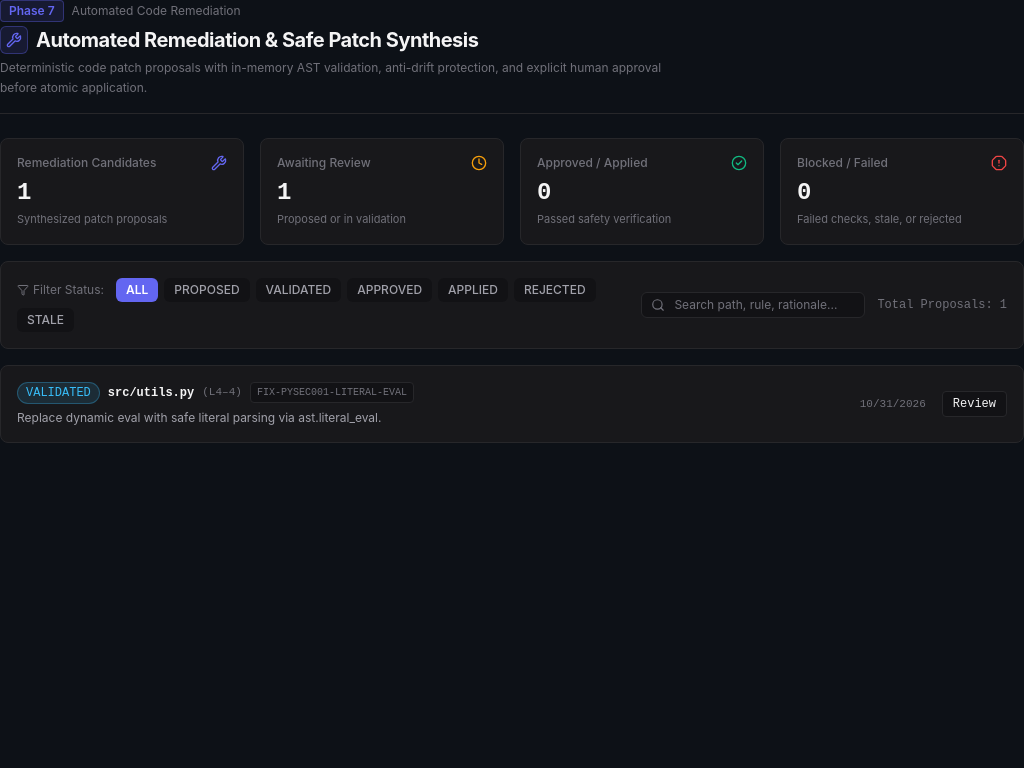
RemediationPage Component › opens proposal detail console on clicking review
Expected: the text "src/utils.py" is shown, top-left (108, 384), bottom-right (194, 400)
What coordinates should you click on to do the following:
click the button "Review"
I would click on:
 (974, 404)
Its box is top-left (942, 390), bottom-right (1007, 416).
(page scrolled)
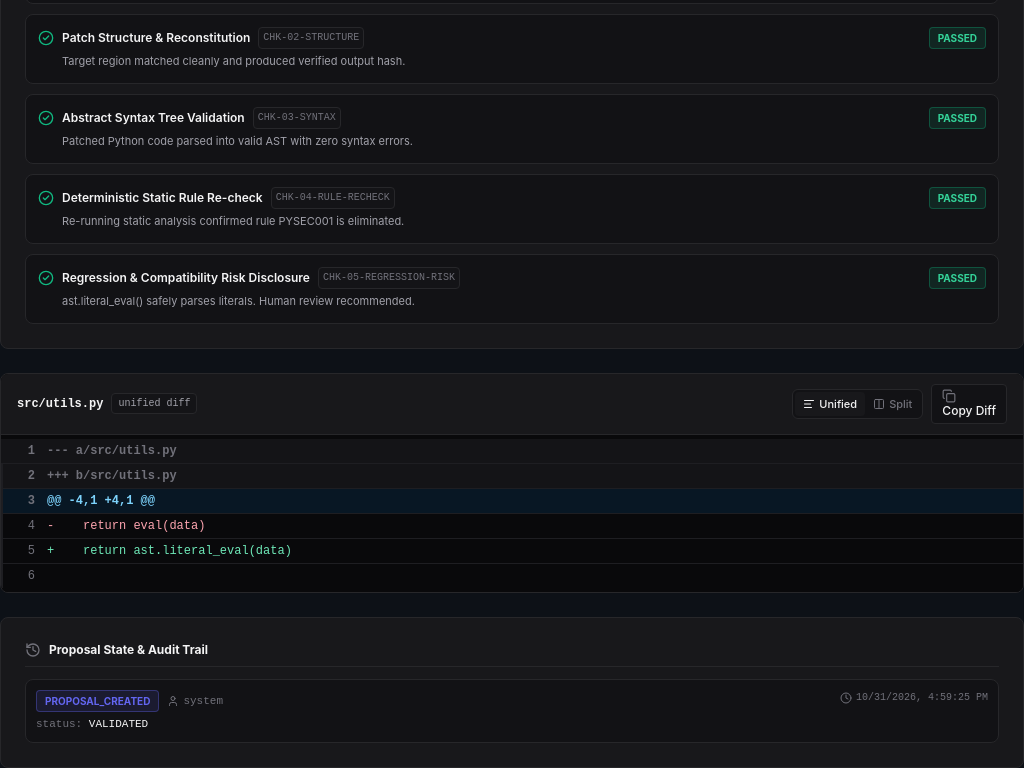
Expected: the text "CHK-03-SYNTAX" is shown, top-left (253, 107), bottom-right (341, 129)
Expected: the text "Copy Diff" is shown, top-left (942, 403), bottom-right (996, 418)
